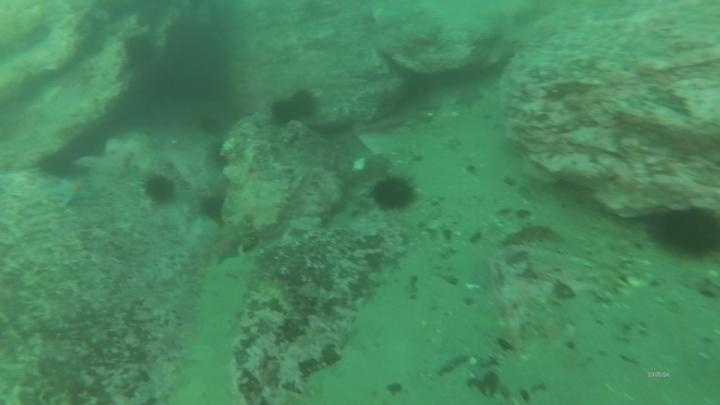echinus: (649, 204, 720, 262), (369, 174, 418, 213), (282, 87, 321, 124), (35, 148, 79, 180), (121, 32, 159, 69), (141, 171, 178, 207), (193, 105, 231, 138), (267, 94, 303, 128), (196, 192, 225, 217)
holothurian: (582, 230, 632, 301), (249, 273, 299, 317)
starfish: (50, 174, 99, 209), (206, 230, 245, 266), (451, 81, 487, 111)
